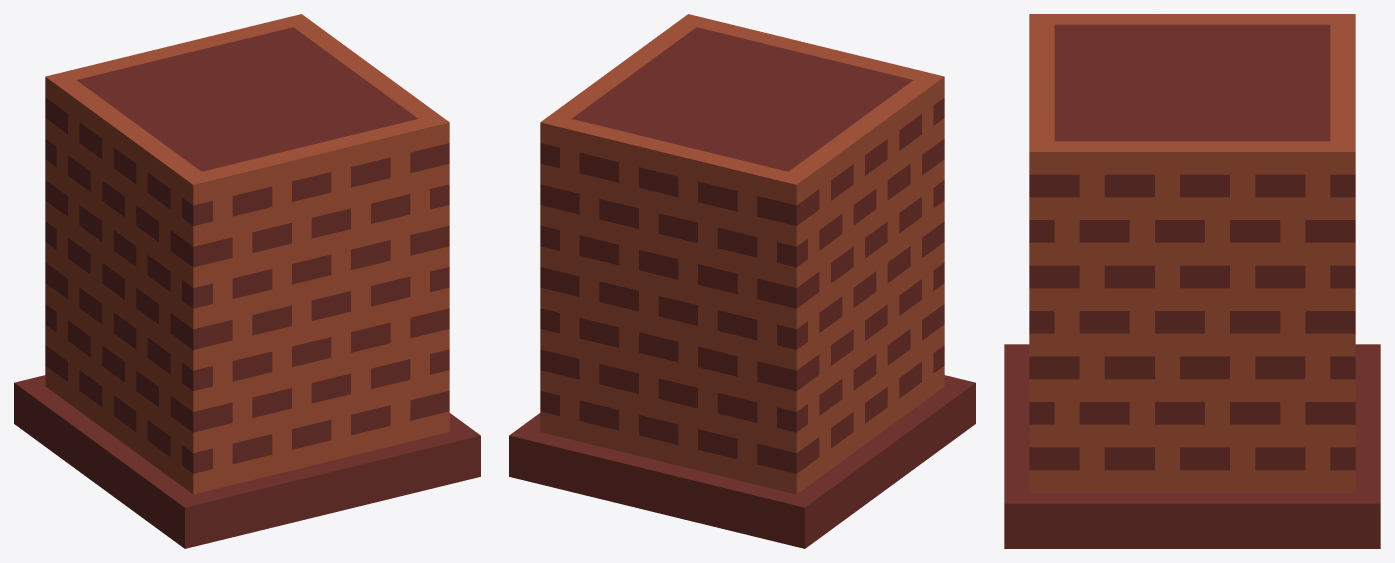
Rendered from dungeon_b_b_inner_wall_solo.obj.
The picture shows the model from 3 angles, left to right: view 1: azimuth 30°, elevation 25°; view 2: azimuth 150°, elevation 25°; view 3: azimuth 270°, elevation 25°; orthographic projection. The views are drawn at different scales.
Bounding box in the file's own units: 1.5 × 1.7 × 1.5.
1 material, 1 textured.
